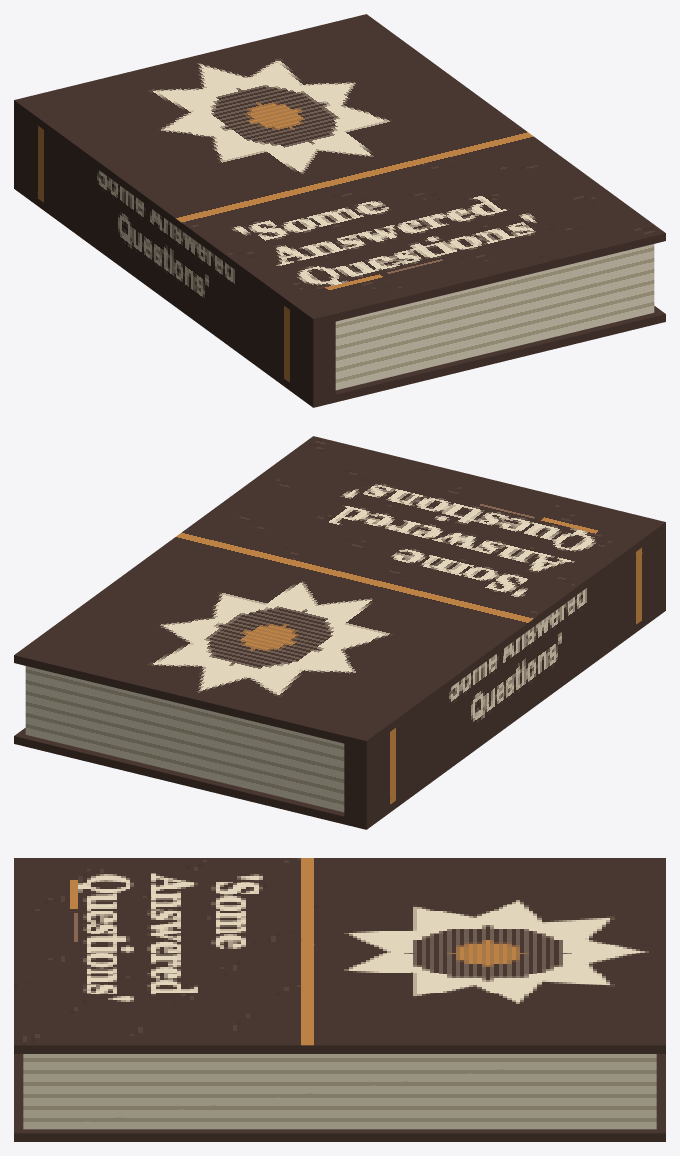
The model's file is holybook_bahai5.glb.
3 views of the same model, one above another, from view 1: azimuth 30°, elevation 25°; view 2: azimuth 150°, elevation 25°; view 3: azimuth 270°, elevation 25° (orthographic). The views are drawn at different scales.
Parts seen in each view (by area): view 1: block_front cover, block_spine, block_page block, block_back cover; view 2: block_front cover, block_spine, block_page block, block_back cover; view 3: block_front cover, block_page block, block_back cover.
Boxes of the visible parts, x1,y1,x2,y2 form: block_front cover: (14,14,665,326); block_spine: (14,108,335,399); block_page block: (335,244,654,390); block_back cover: (14,181,665,407); block_front cover: (14,436,665,748); block_spine: (344,530,665,821); block_page block: (25,666,344,812); block_back cover: (14,603,665,829); block_front cover: (14,858,665,1053); block_page block: (23,1054,656,1129); block_back cover: (14,1054,665,1141).
Size of the model in its own units: 0.1414 by 0.034 by 0.208.
Materials: 1 (1 with a texture image).
